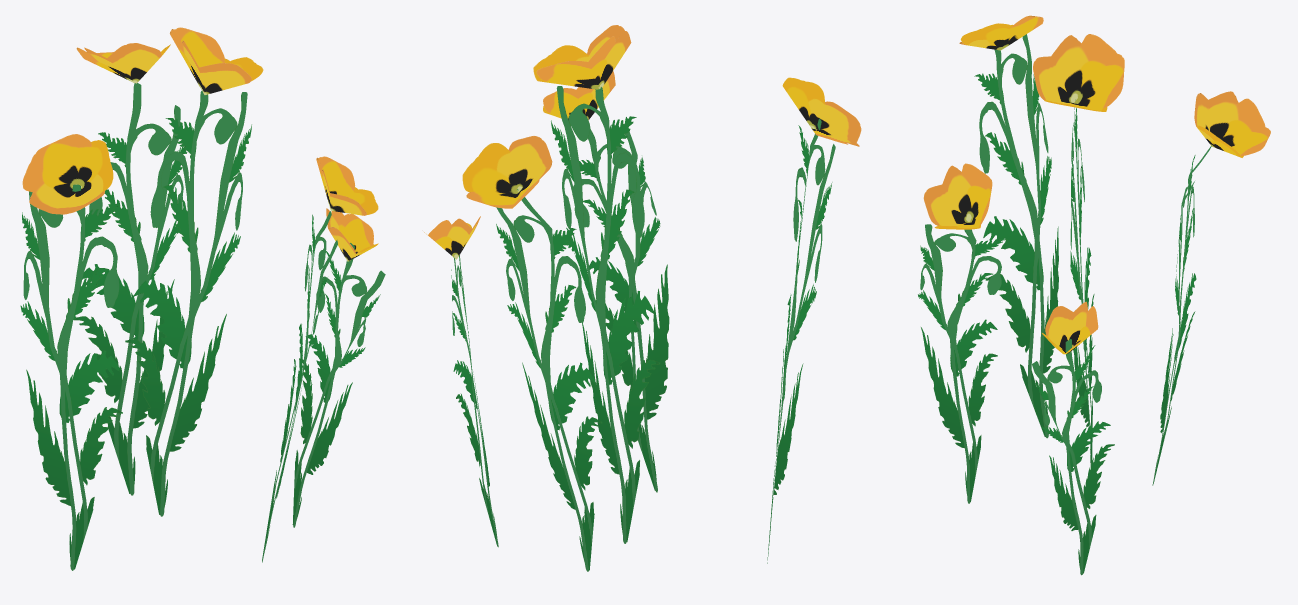
The model's file is flowerYellow.fbx.
3 renders of one model, left to right at view 1: azimuth 30°, elevation 25°; view 2: azimuth 150°, elevation 25°; view 3: azimuth 270°, elevation 25°, orthographic. The views are drawn at different scales.
Parts seen in each view (by area): view 1: PT_Poppy_02_Yellow; view 2: PT_Poppy_02_Yellow; view 3: PT_Poppy_02_Yellow.
Part boxes in pixels (x1,y1,x2,y2): PT_Poppy_02_Yellow: [20, 27, 385, 570]; PT_Poppy_02_Yellow: [424, 25, 861, 571]; PT_Poppy_02_Yellow: [918, 15, 1270, 575].
Size of the model in its own units: 63.17 by 81.91 by 54.09.
